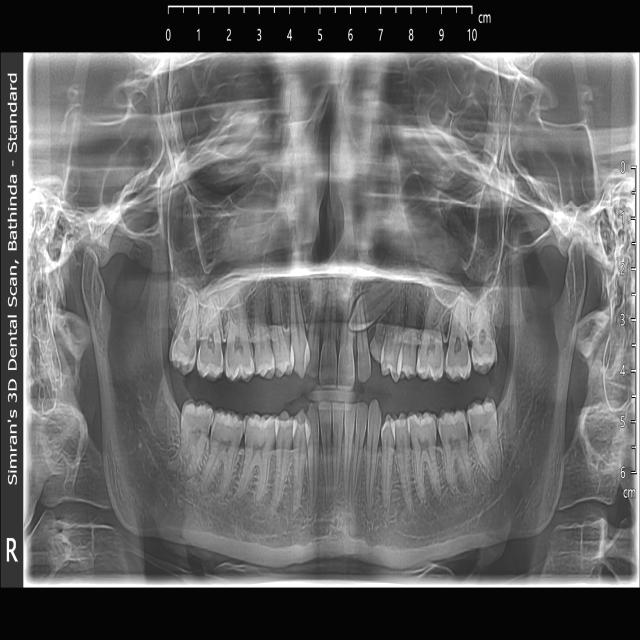impacted tooth: (349, 279, 402, 331)
